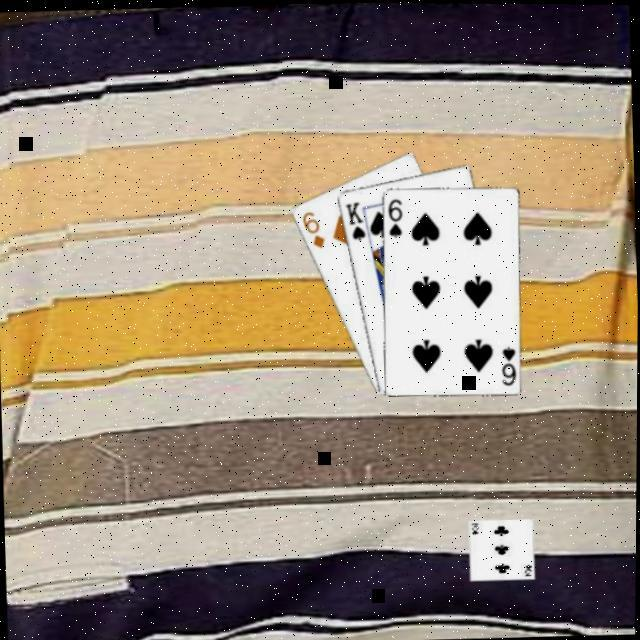6D: (299, 207, 328, 251)
6S: (498, 342, 520, 387), (385, 196, 406, 241)
KS: (343, 198, 369, 244)
